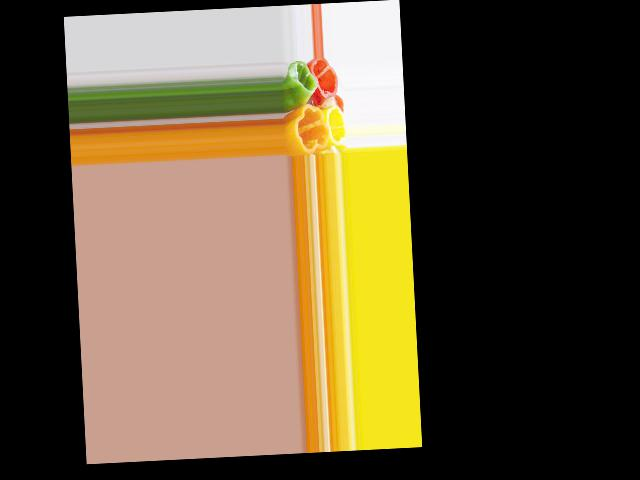bell_pepper: (311, 59, 339, 99)
